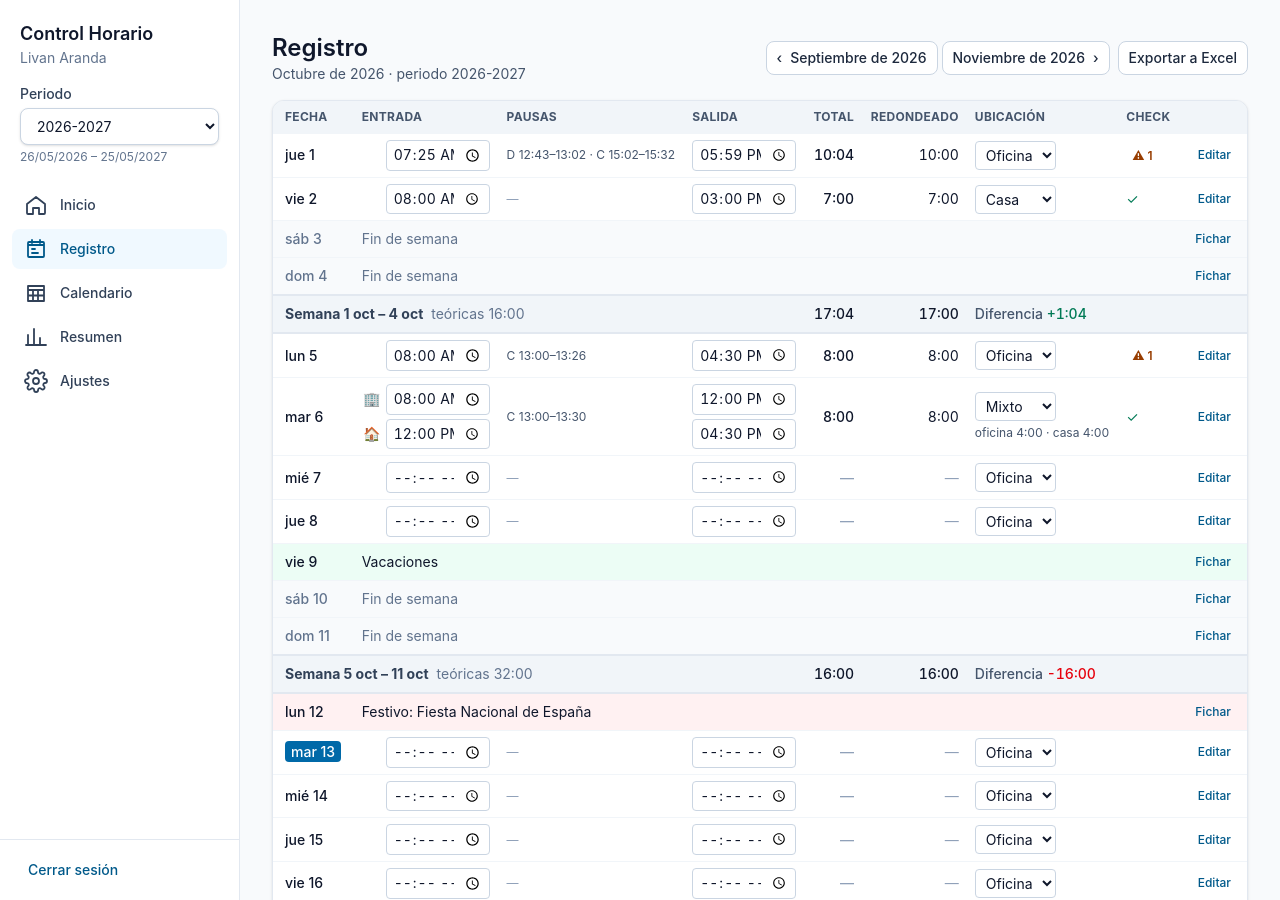
it: Registro mensual › valida la fila con las mismas reglas que el backend y no envía nada si hay errores
This screenshot has width=1280, height=900.
Replace the text in the time field named "Salida del jue 1" with "07:00" at x=744, y=155, box [692,140,796,171]
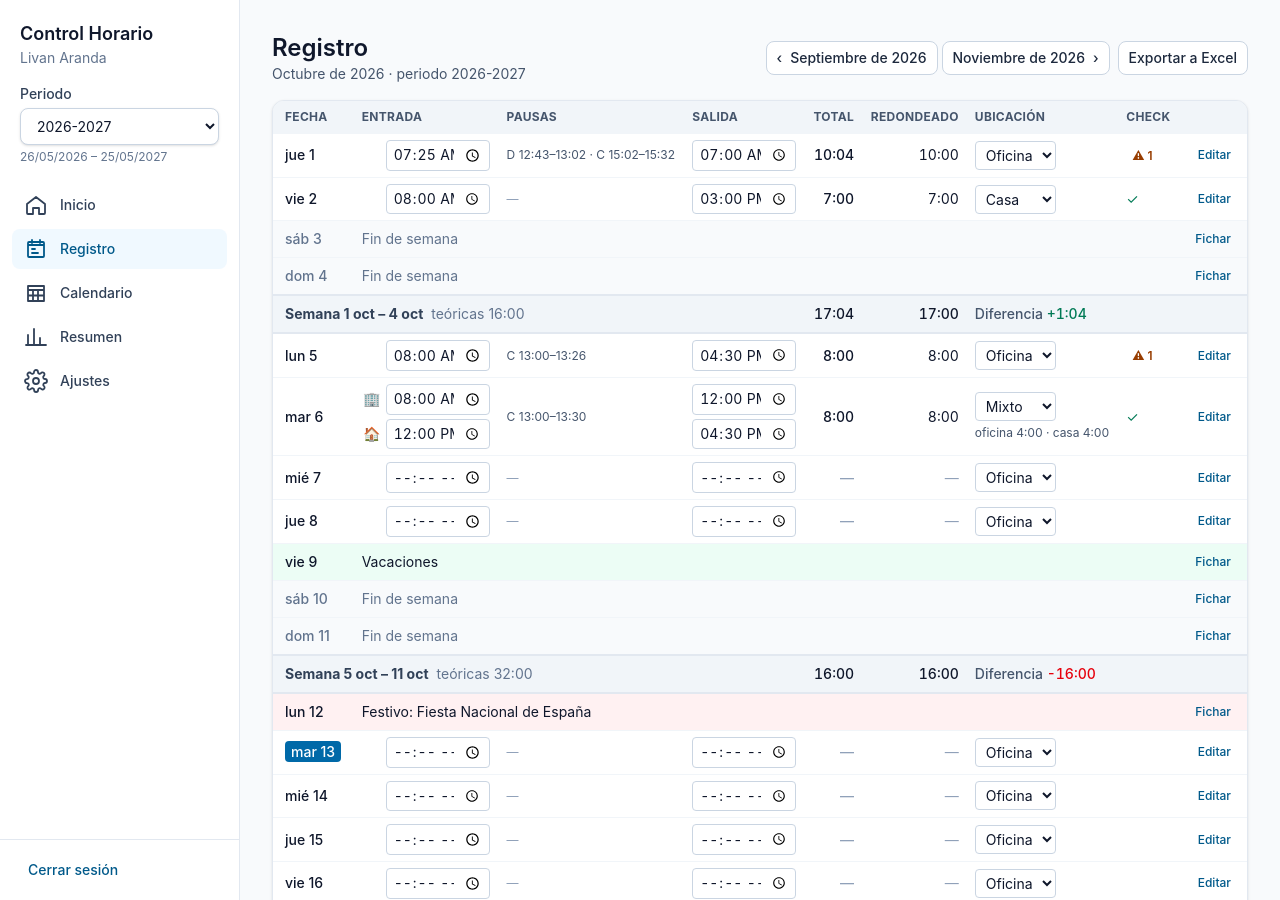
Leave the time field named "Salida del jue 1", box [692,140,796,171]
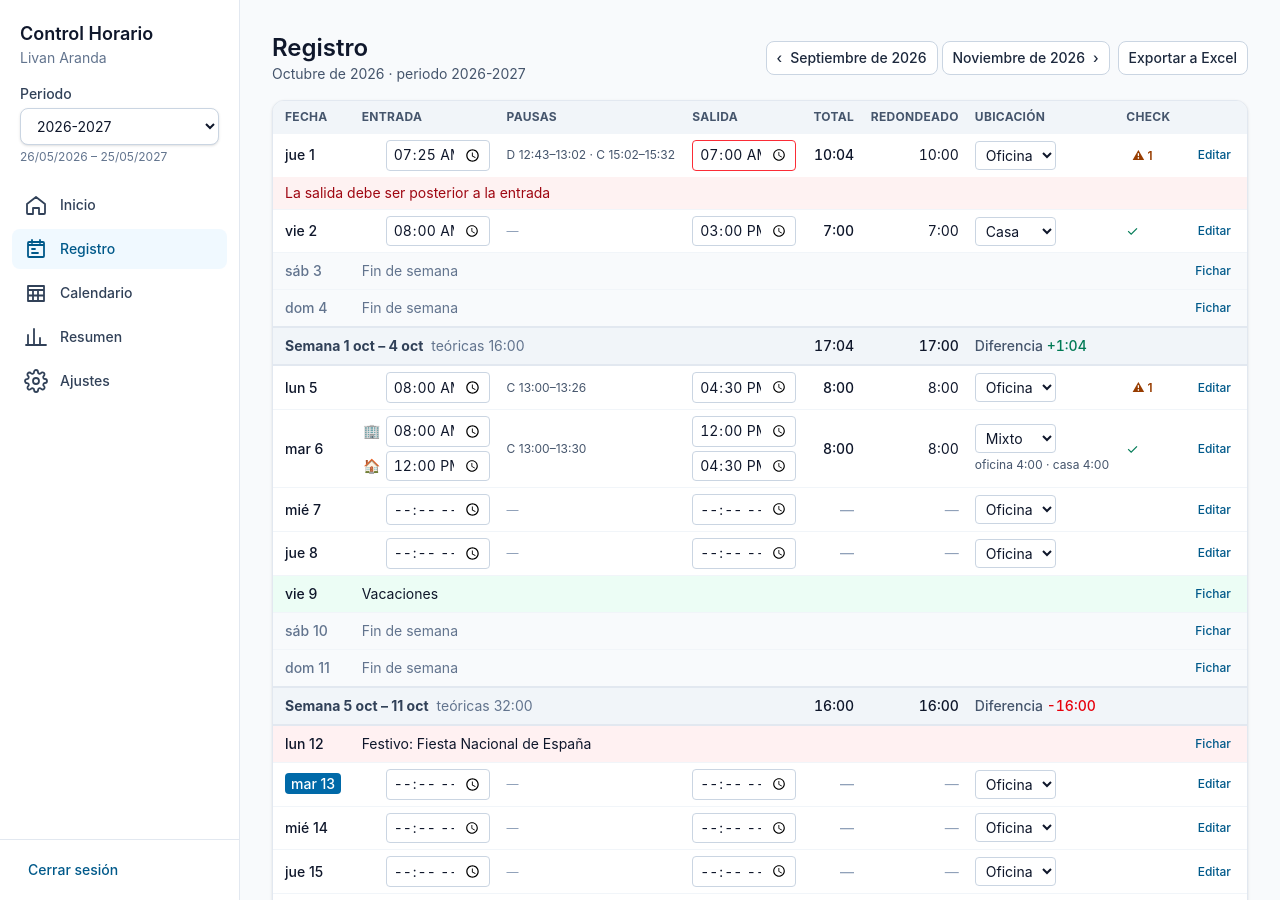
Check: the message reads "La salida debe ser posterior a la entrada", box [285,184,550,201]
